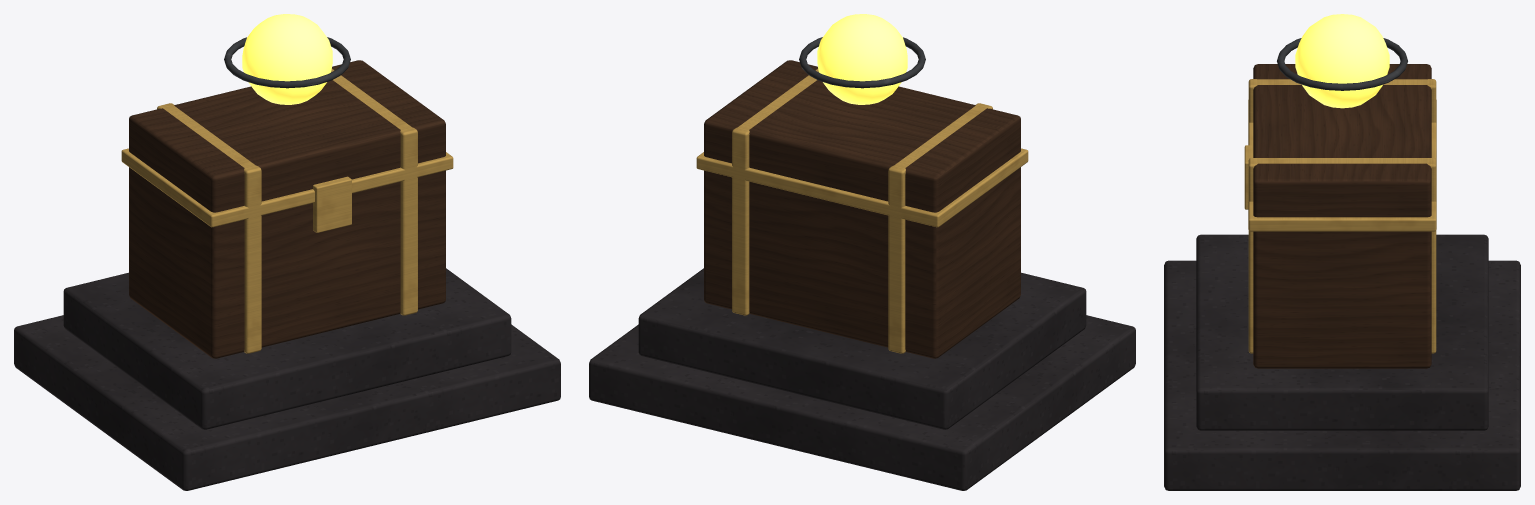
The model's file is stakeReliquary.glb.
3 views of the same model, side by side, from view 1: azimuth 30°, elevation 25°; view 2: azimuth 150°, elevation 25°; view 3: azimuth 270°, elevation 25° (orthographic). The views are drawn at different scales.
Parts seen in each view (by area): view 1: stakeReliquary; view 2: stakeReliquary; view 3: stakeReliquary.
Boxes of the visible parts, x1=… form: stakeReliquary: x1=14, y1=14, x2=560, y2=490; stakeReliquary: x1=589, y1=14, x2=1135, y2=490; stakeReliquary: x1=1164, y1=14, x2=1520, y2=490.
Bounding box in the file's own units: 0.9502 × 0.8801 × 0.7502.
Materials: 5 (4 with a texture image).
